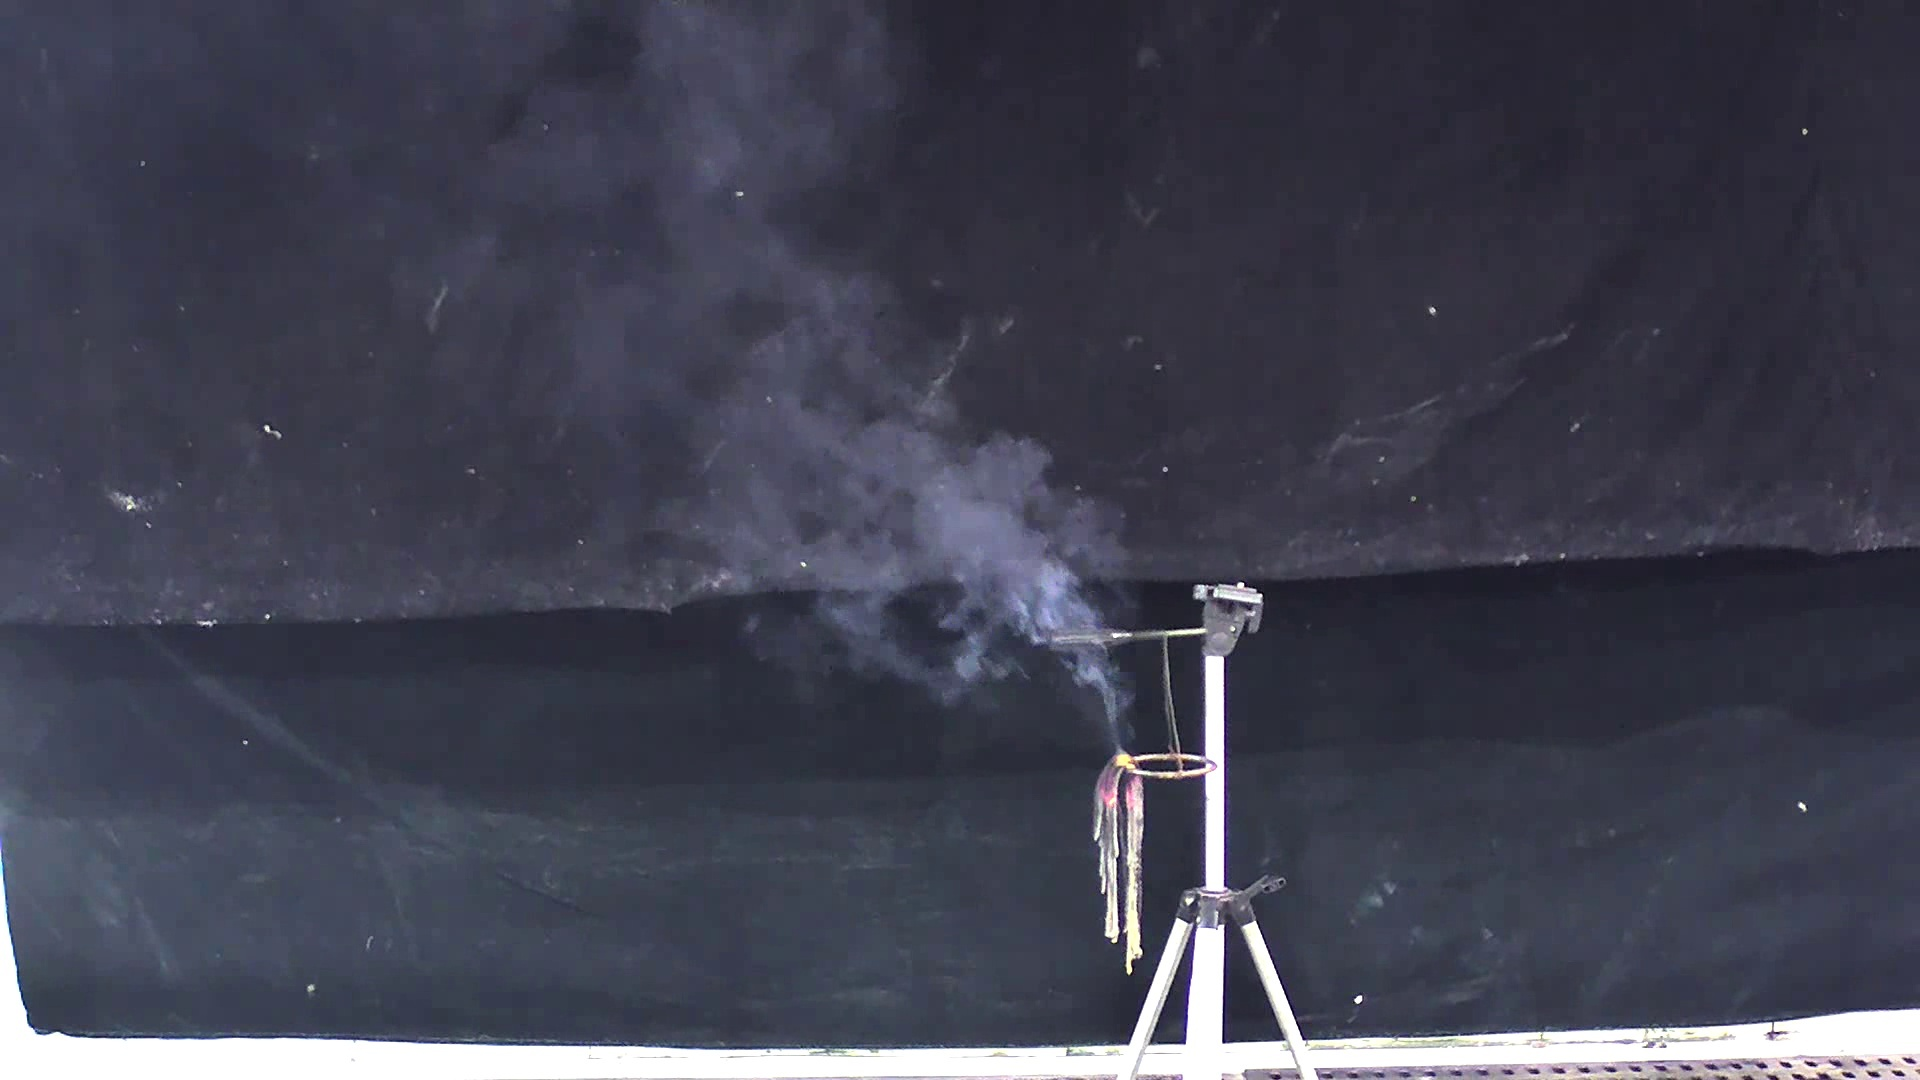smoke: (369, 22, 1146, 753)
